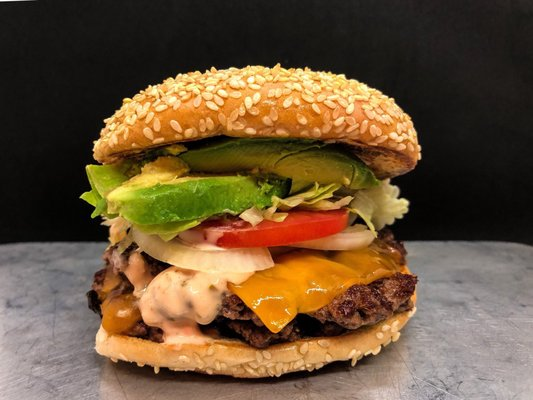soup: (77, 63, 426, 387)
